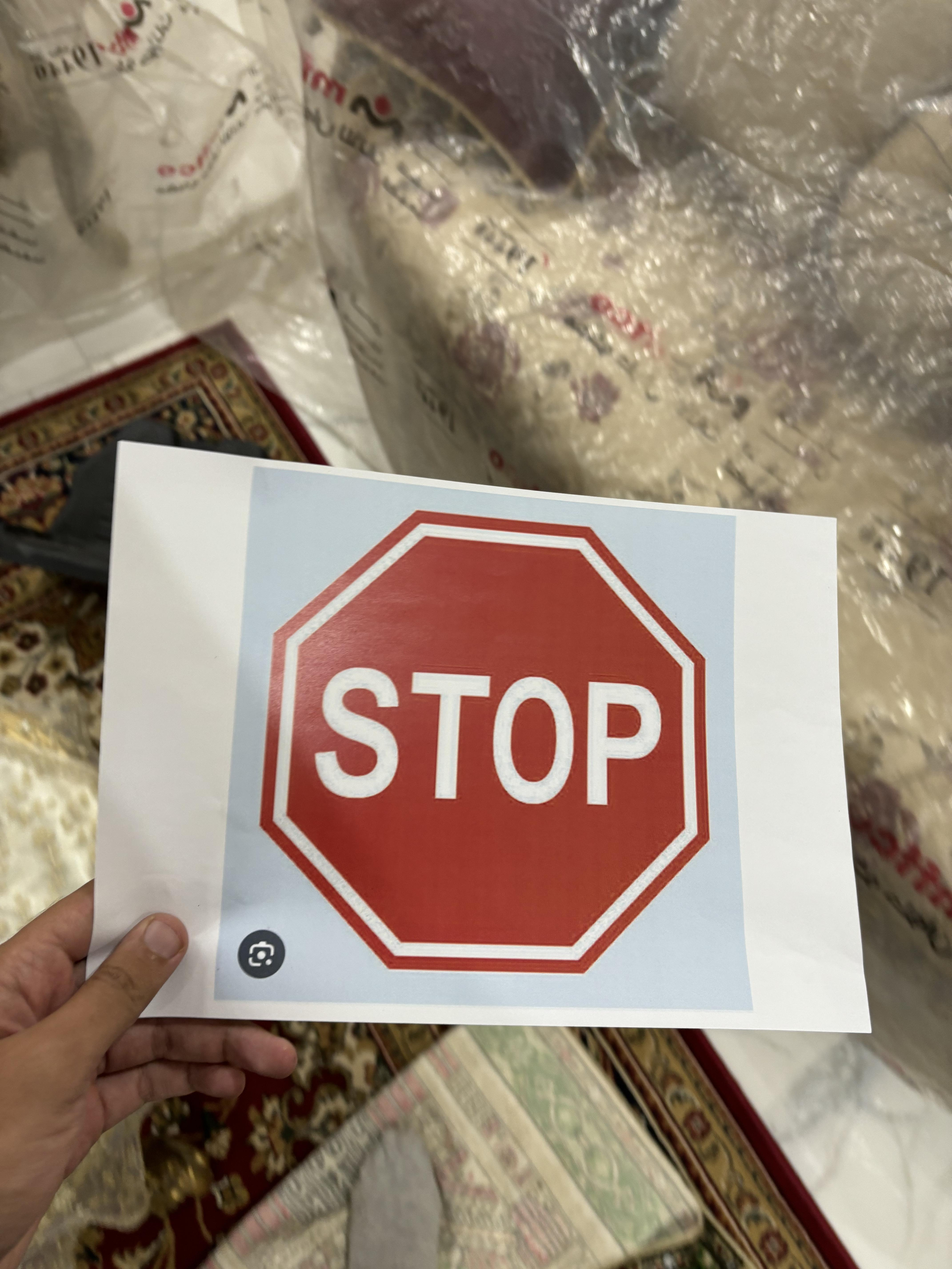Stop: (244, 511, 723, 984)
